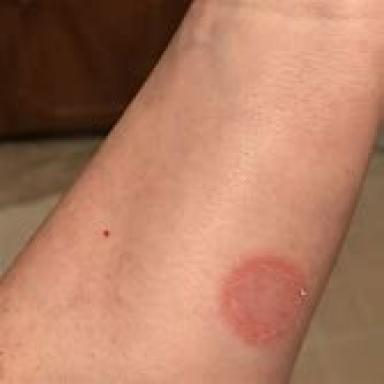Tinea-Corporis: (221, 252, 311, 345)
